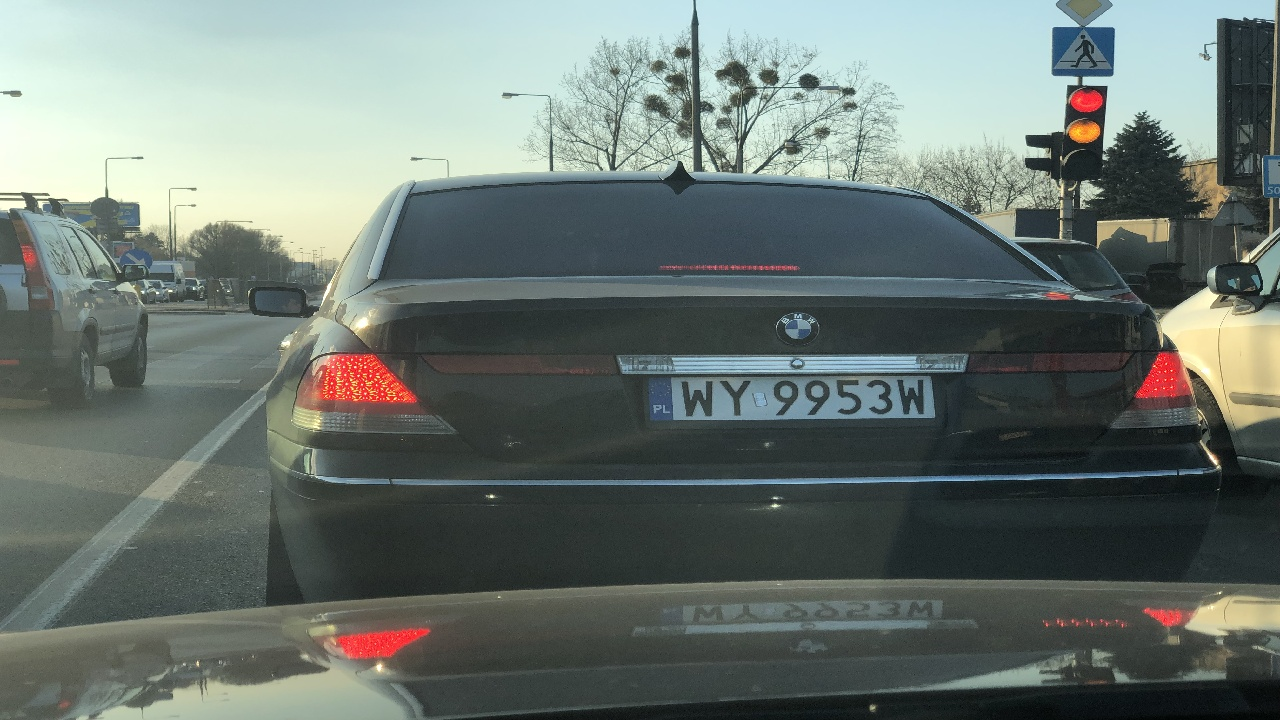D1: (1037, 1, 1106, 31)
D6: (1049, 23, 1118, 76)
